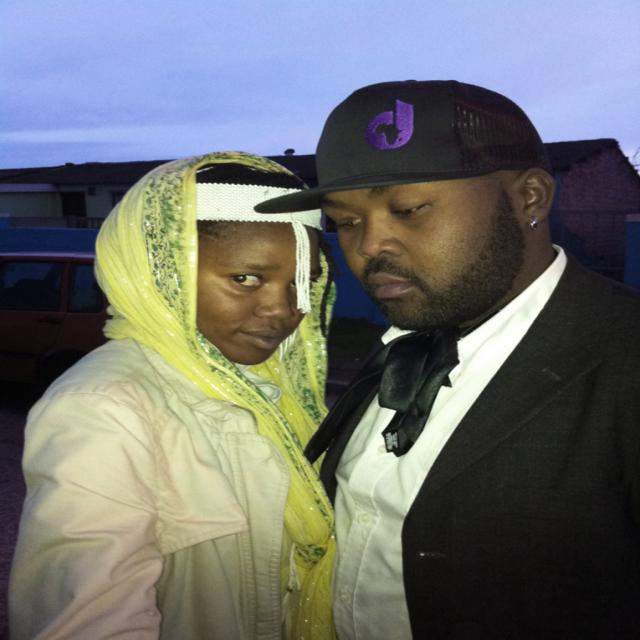Hat: (254, 78, 549, 218)
